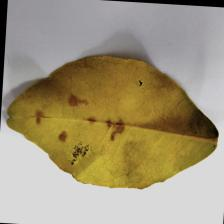black spot: (14, 80, 137, 142)
